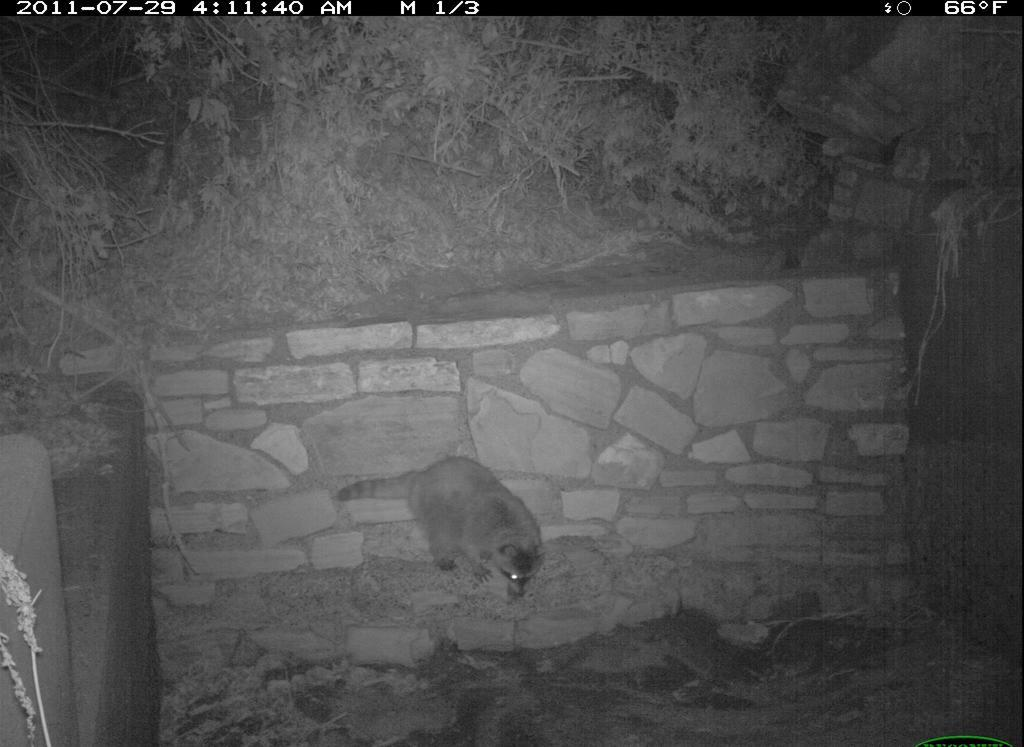raccoon: (329, 445, 553, 615)
